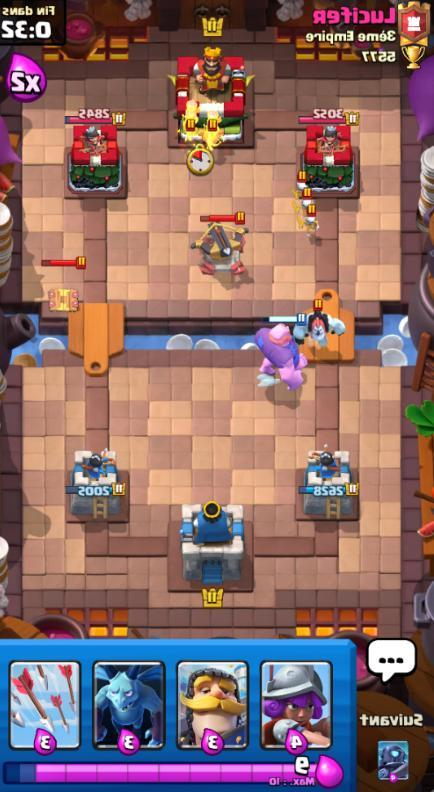enemy_ice_golem: (294, 298, 346, 355)
enemy_skeletons: (298, 206, 324, 236), (294, 189, 318, 213), (289, 169, 313, 193)
enemy_tesla: (38, 253, 90, 314)
enemy_xbow: (187, 209, 256, 281)
player_giant: (249, 309, 310, 391)
